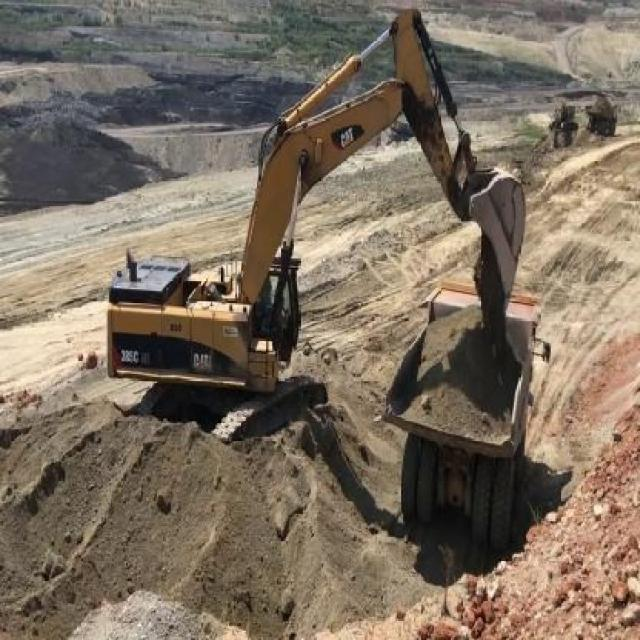dump truck: (386, 267, 542, 558), (584, 100, 619, 134)
excavator: (99, 1, 527, 452), (550, 99, 578, 144)
